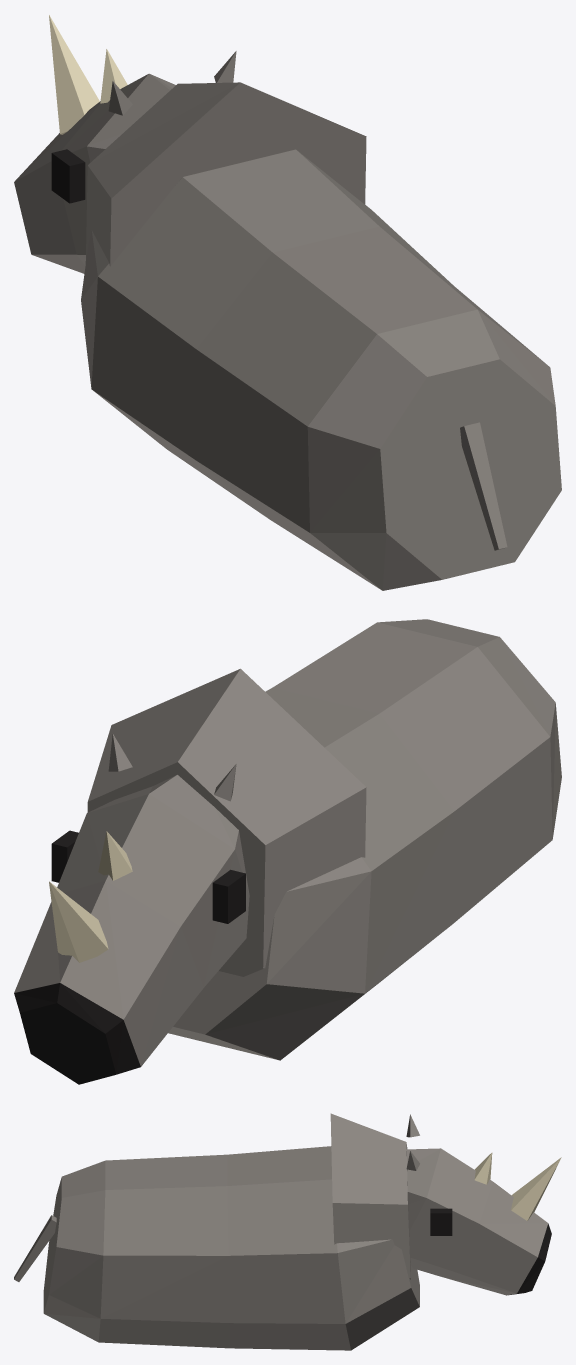
Rendered from animal_rhinoceros.obj.
The picture shows the model from 3 angles, top to bottom: view 1: azimuth 30°, elevation 25°; view 2: azimuth 150°, elevation 25°; view 3: azimuth 270°, elevation 25°; orthographic projection. The views are drawn at different scales.
Parts seen in each view (by area): view 1: animal_rhinoceros; view 2: animal_rhinoceros; view 3: animal_rhinoceros.
Part boxes in pixels (x1=…): animal_rhinoceros: x1=14, y1=15, x2=561, y2=590; animal_rhinoceros: x1=14, y1=619, x2=561, y2=1084; animal_rhinoceros: x1=14, y1=1113, x2=561, y2=1350.
Bounding box in the file's own units: 0.865 × 1.1 × 2.49.
